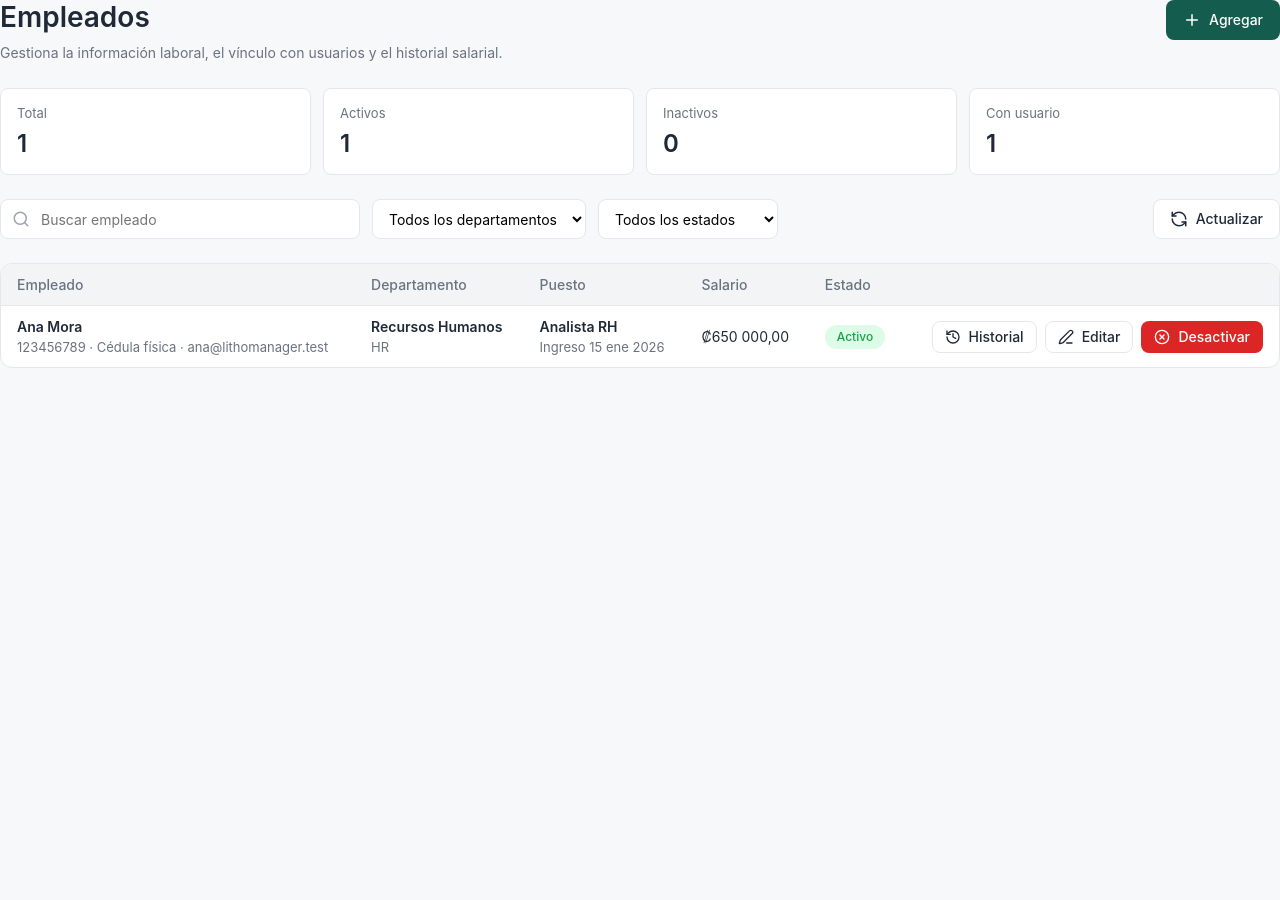
EmployeesPage › loads employees and opens the create form
The image size is (1280, 900).
Expected: the text "Ana Mora" is shown, x1=17 y1=318 x2=82 y2=335
Expected: the text "123456789 · Cédula física · ana@lithomanager.test" is shown, x1=17 y1=339 x2=339 y2=355
Click the button "Agregar" at (1223, 20), box x1=1166 y1=0 x2=1279 y2=40
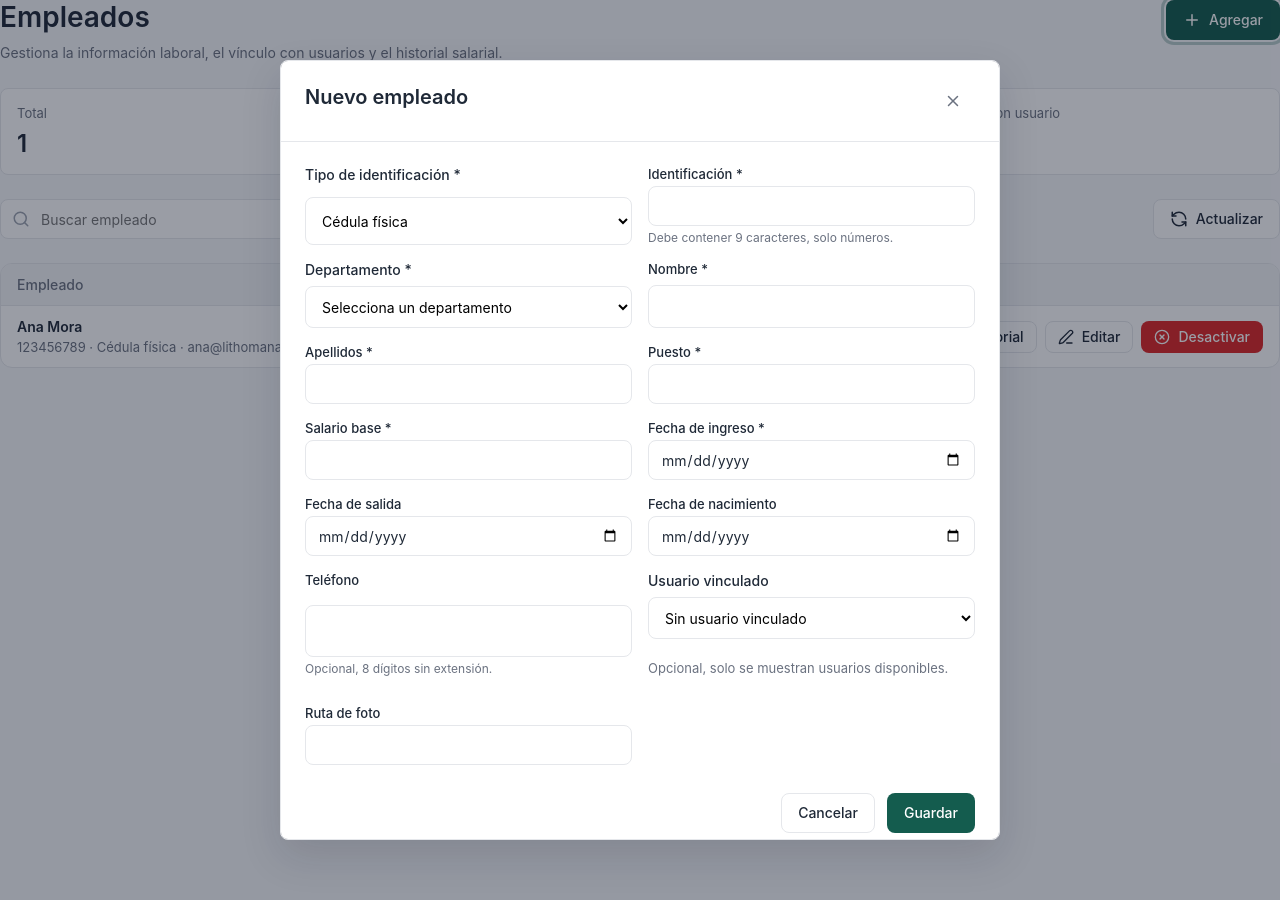
Expected: the dialog "Nuevo empleado" is shown, x1=280 y1=60 x2=1000 y2=840
Expected: the dropdown labelled "Usuario vinculado" shows "Sin usuario vinculado", x1=648 y1=597 x2=975 y2=639
Expected: the dropdown labelled "Tipo de identificación *" shows "Cédula física", x1=305 y1=197 x2=632 y2=245
